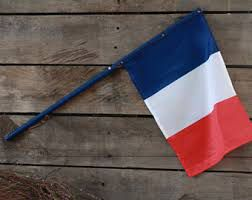French Flag: (123, 13, 250, 175)
